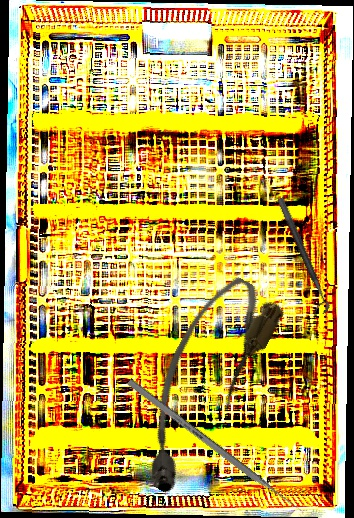Cannula: (113, 267, 289, 502)
Fixation Ring: (267, 196, 332, 318)
Pusher: (126, 378, 306, 516)
